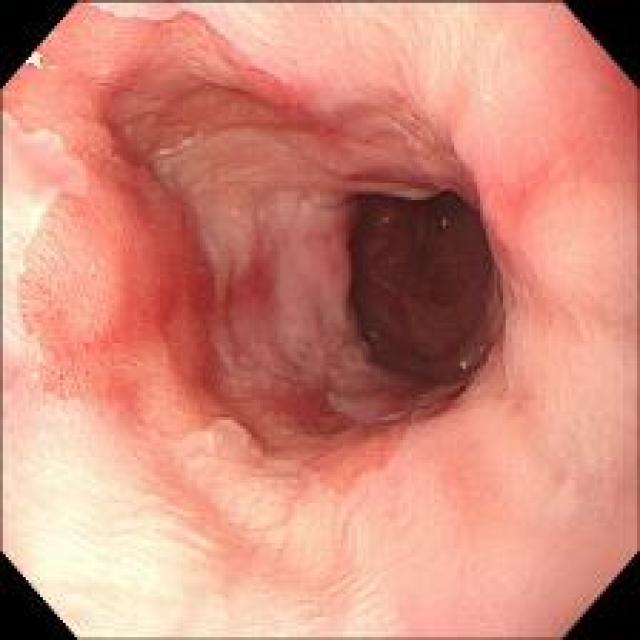color misalignment: (455, 351, 474, 370), (364, 324, 380, 341)
contrast: (349, 182, 500, 386)
saturation: (4, 391, 386, 638)
specularity: (26, 49, 46, 70)
